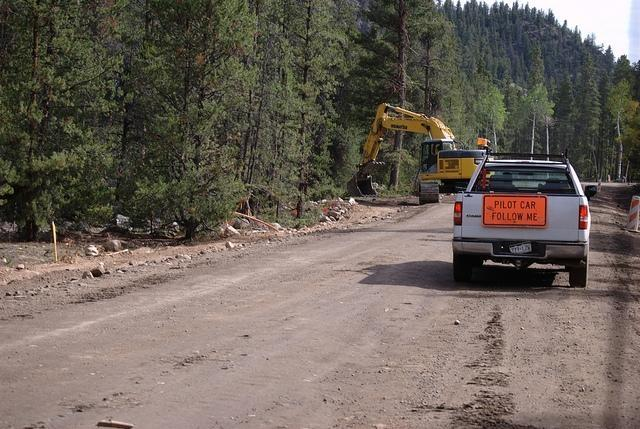truck: (453, 150, 591, 290)
